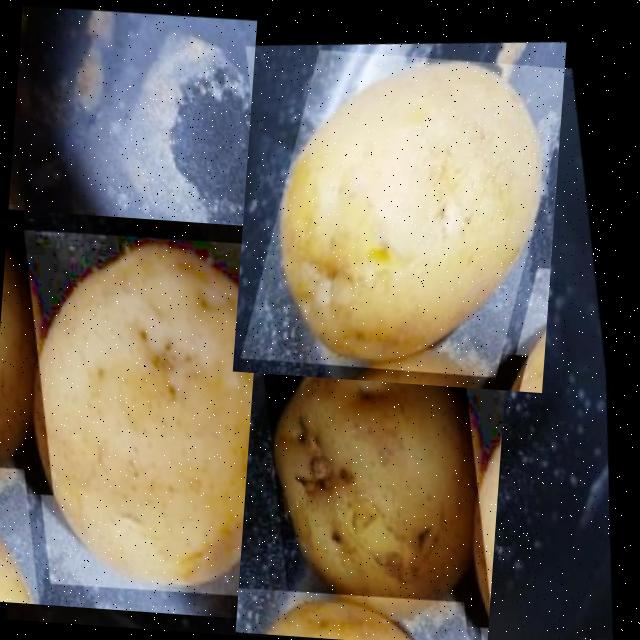Potato: (0, 208, 322, 621), (231, 19, 565, 392), (233, 313, 508, 640)
